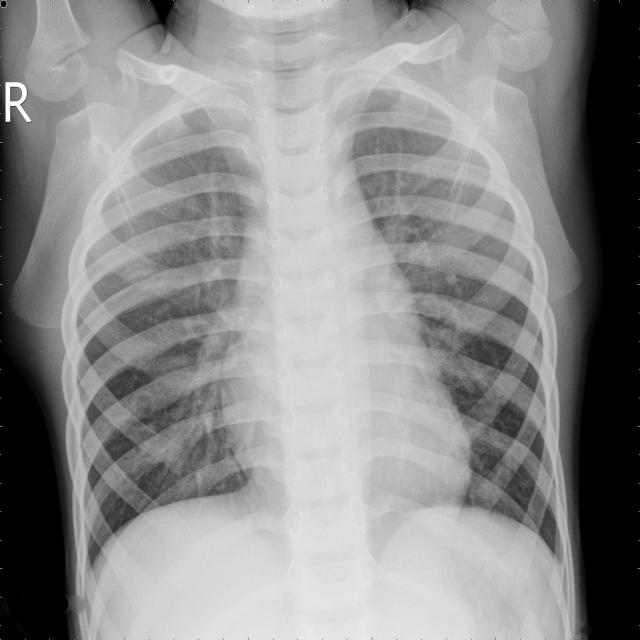no-pneumonia: (353, 104, 569, 559), (64, 107, 265, 579)
